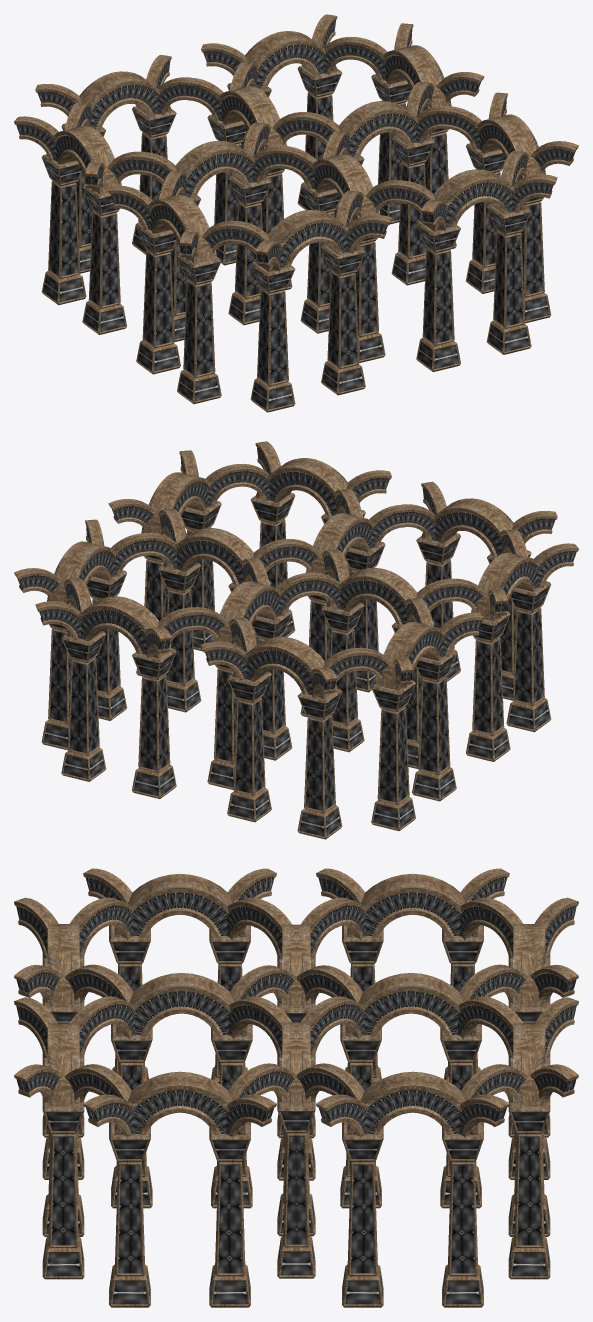
Rendered from column7.FBX.
3 renders of one model, top to bottom at view 1: azimuth 30°, elevation 25°; view 2: azimuth 150°, elevation 25°; view 3: azimuth 270°, elevation 25°, orthographic. The views are drawn at different scales.
Parts seen in each view (by area): view 1: Box027; view 2: Box027; view 3: Box027.
Part boxes in pixels (x1=…): Box027: x1=14, y1=14, x2=578, y2=412; Box027: x1=14, y1=441, x2=578, y2=839; Box027: x1=14, y1=868, x2=578, y2=1307.
Bounding box in the file's own units: 605 × 260 × 602.
